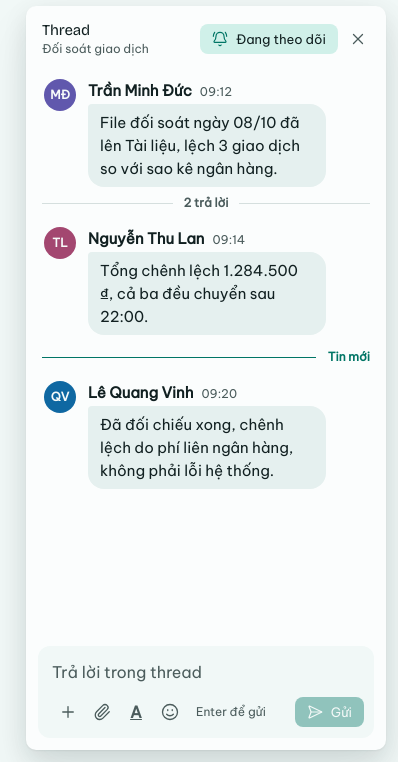
ThreadPanel › toggles follow with the server, announcing the change once
This screenshot has width=398, height=762.
What coordinates should you click on to do the following:
click the button "Đang theo dõi"
I would click on:
 (269, 38)
Its box is top-left (200, 24), bottom-right (338, 54).
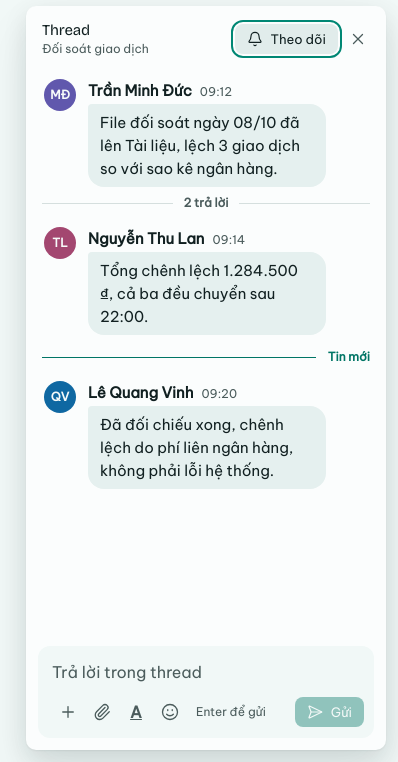
Check: the button "Theo dõi" is not pressed
What coordinates should you click on to do the following:
click the button "Theo dõi"
I would click on:
 (286, 38)
Its box is top-left (234, 24), bottom-right (338, 54).
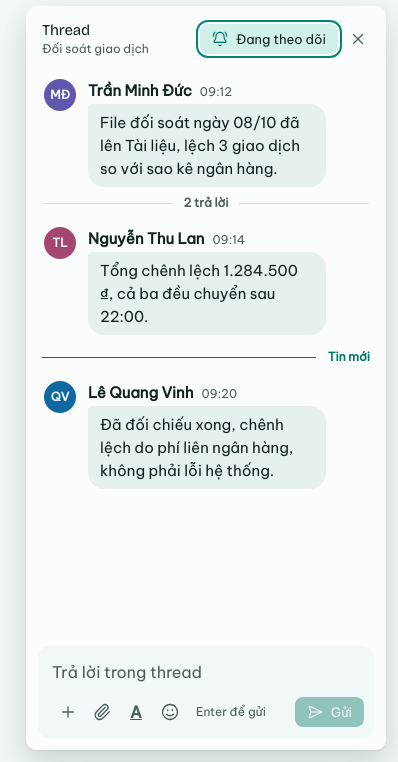
Check: the button "Đang theo dõi" is shown, box top-left (200, 24), bottom-right (338, 54)
